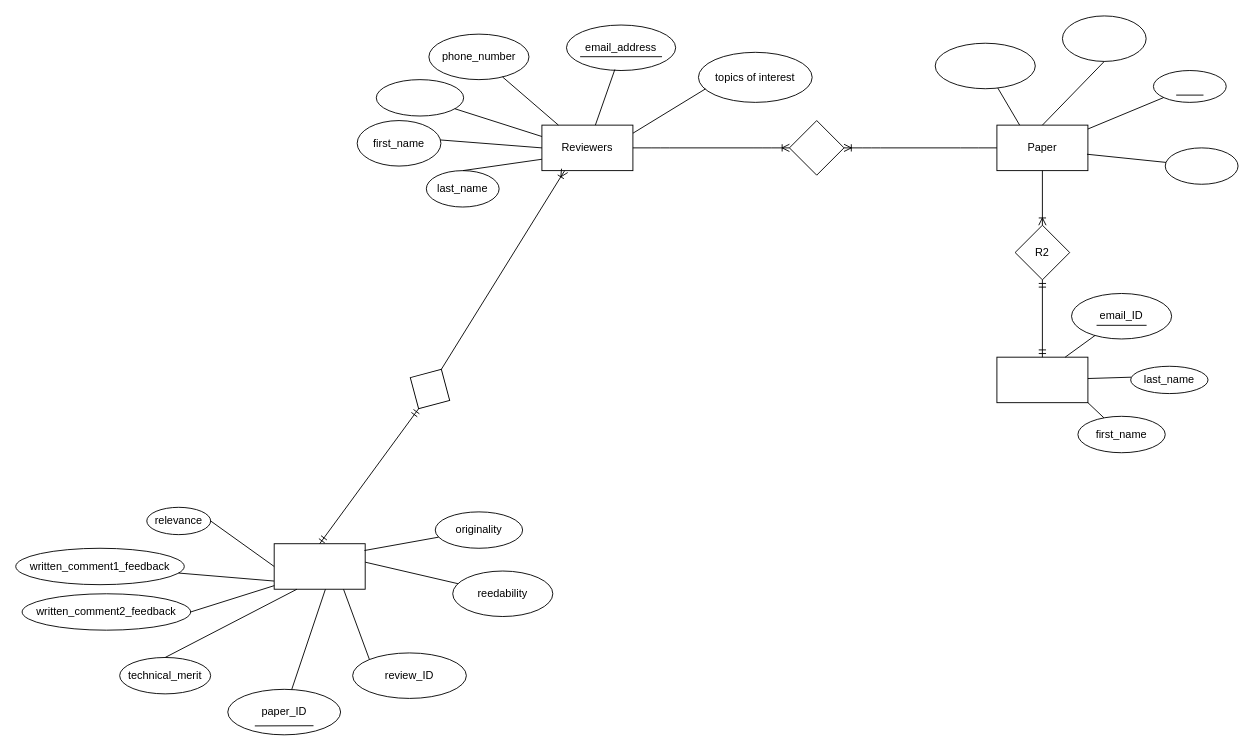
Some shapes in this 1255 by 751 pixel diagram are drawn without their labels. Here are the shapes that lost their labels. From the top down, the centre of each, then its label:
At (1104,38): "abstract".
At (984,65): "name_of_file".
At (419,97): "affiliation".
At (1189,86): "ID".
At (816,147): "R1".
At (1201,165): "title".
At (429,388): "R3".
At (1042,379): "Authors".
At (319,566): "Reviews".
